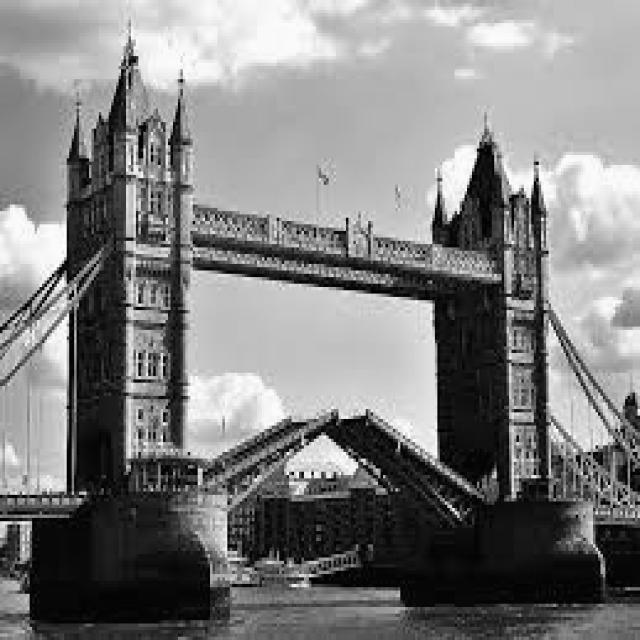Bridges: (2, 21, 640, 613)
